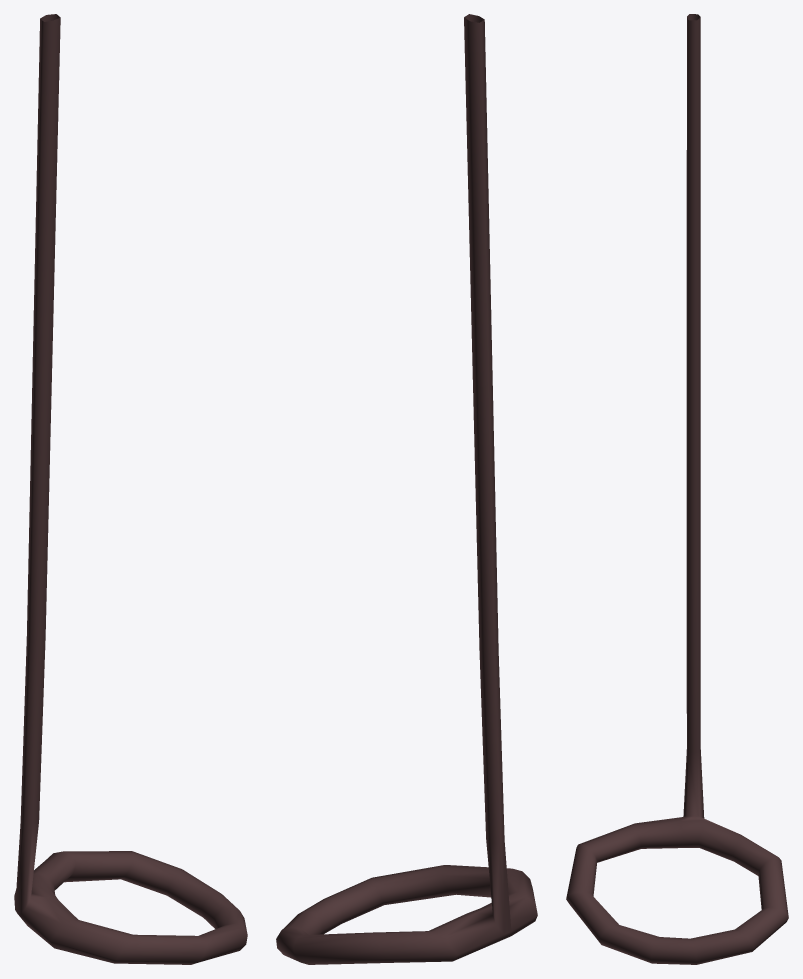
File: SM_Dolls_4_rope.fbx
3 renders of one model, left to right at view 1: azimuth 30°, elevation 25°; view 2: azimuth 150°, elevation 25°; view 3: azimuth 270°, elevation 25°, orthographic. The views are drawn at different scales.
Parts seen in each view (by area): view 1: SM_Dolls_4_rope; view 2: SM_Dolls_4_rope; view 3: SM_Dolls_4_rope.
Part boxes in pixels (box(x1,y1,x2,y2)): SM_Dolls_4_rope: box(14, 14, 247, 964); SM_Dolls_4_rope: box(276, 14, 537, 964); SM_Dolls_4_rope: box(566, 14, 788, 964).
Size of the model in its own units: 6.73 by 6.72 by 29.07.
Materials: 1 (1 with a texture image).
